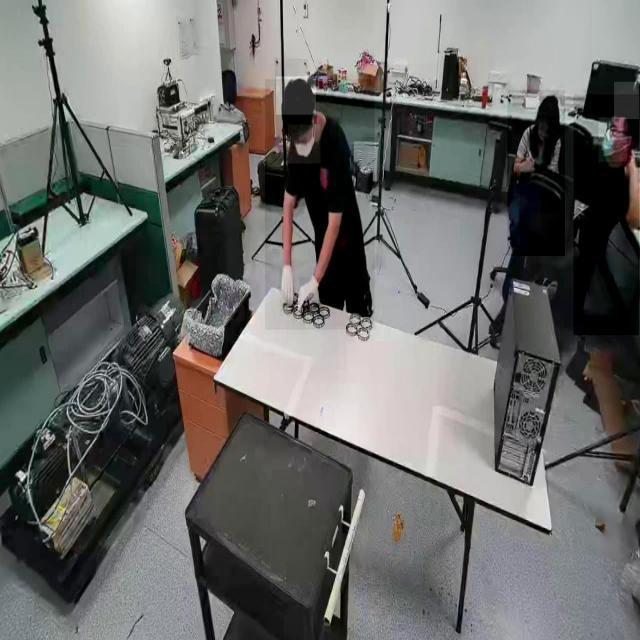gloves: (280, 260, 296, 318), (300, 278, 324, 316)
